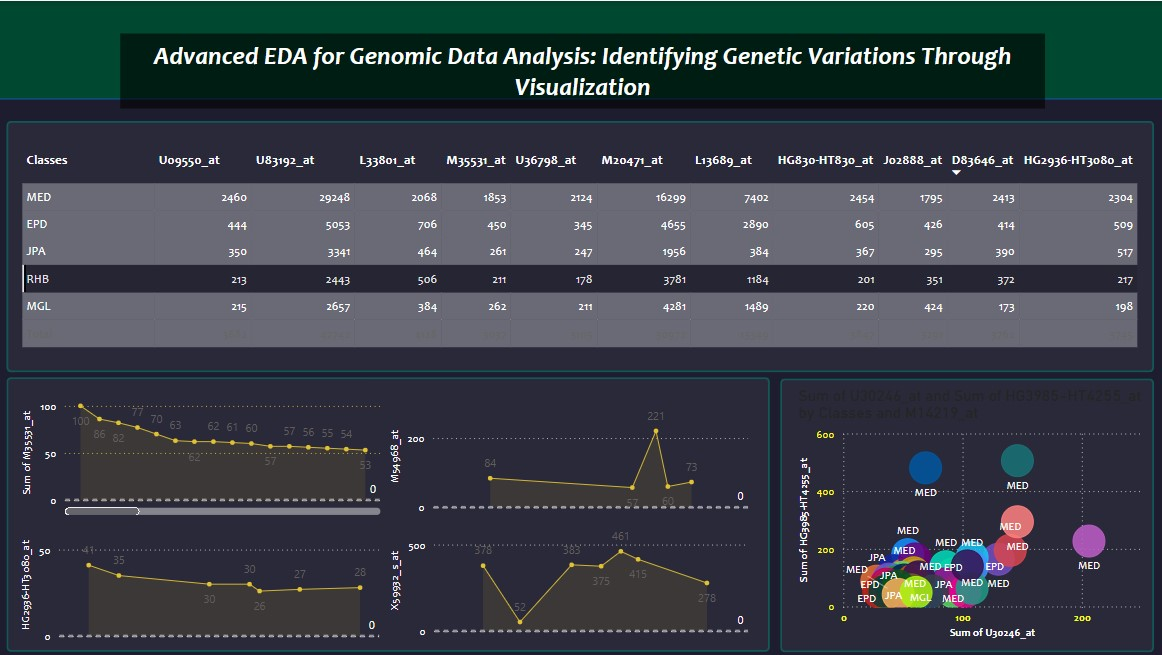

The page's visual inventory and layout, read from the dashboard file:
{"tool":"powerbi","page":{"name":"Page 3","canvas":[1280,720],"ordinal":2},"visuals":[{"type":"shape","box":[0,106.6,1280.3,613.4],"z":0},{"type":"shape","box":[8.6,412.9,838,301.4],"z":1000},{"type":"shape","box":[857.6,414.4,410.3,300.5],"z":2000},{"type":"shape","box":[8.2,131.7,1259.7,275.8],"z":3000},{"type":"actionButton","box":[133.1,35.7,1015.4,82.3],"z":4000},{"type":"scatterChart","fields":{"Category":["pp5i_traintop06.Classes"],"Y":["Sum(pp5i_traintop06.HG3985-HT4255_at)"],"Series":["pp5i_traintop06.M14219_at"],"X":["Sum(pp5i_traintop06.U30246_at)"]},"box":[872.7,422.6,396.6,282.7],"z":5000},{"type":"areaChart","fields":{"Y":["Sum(pp5i_traintop06.M35531_at)"],"Category":["pp5i_traintop06.M14219_at","pp5i_traintop06.HG830-HT830_at"]},"box":[20.6,428.1,403.4,141.3],"z":6000},{"type":"areaChart","fields":{"Y":["Sum(pp5i_traintop02.HG2936-HT3080_at)"],"Category":["pp5i_traintop02.M54968_at"]},"box":[19.2,569.5,403.4,141.3],"z":7000},{"type":"areaChart","fields":{"Y":["Sum(pp5i_traintop02.X59932_s_at)"],"Category":["pp5i_traintop02.M20471_at"]},"box":[424,564,403.4,141.3],"z":8000},{"type":"areaChart","fields":{"Y":["Sum(pp5i_traintop02.M54968_at)"],"Category":["pp5i_traintop02.D13634_at"]},"box":[424,428.1,403.4,141.3],"z":9000},{"type":"tableEx","fields":{"Values":["pp5i_traintop02.Classes","Sum(pp5i_traintop02.U09550_at)","Sum(pp5i_traintop02.U83192_at)","Sum(pp5i_traintop02.L33801_at)","Sum(pp5i_traintop02.M35531_at)","Sum(pp5i_traintop02.U36798_at)","Sum(pp5i_traintop02.M20471_at)","Sum(pp5i_traintop02.L13689_at)","Sum(pp5i_traintop02.HG830-HT830_at)","Sum(pp5i_traintop02.J02888_at)","Sum(pp5i_traintop02.D83646_at)","Sum(pp5i_traintop02.HG2936-HT3080_at)"]},"box":[19.2,153.7,1239.1,249.7],"z":10000}]}

Visuals, with their boxes in screenshot pixels (x1, y1, x2, y2), scaled from the page's 1280x720 canvas onto the 1162x655 screenshot:
shape: box=[0, 97, 1161, 654]
shape: box=[8, 376, 769, 650]
shape: box=[779, 377, 1151, 650]
shape: box=[7, 120, 1151, 371]
actionButton: box=[121, 32, 1043, 107]
scatterChart - pp5i_traintop06.Classes x Sum(pp5i_traintop06.HG3985-HT4255_at): box=[792, 384, 1152, 642]
areaChart - Sum(pp5i_traintop06.M35531_at) x pp5i_traintop06.M14219_at: box=[19, 389, 385, 518]
areaChart - Sum(pp5i_traintop02.HG2936-HT3080_at) x pp5i_traintop02.M54968_at: box=[17, 518, 384, 647]
areaChart - Sum(pp5i_traintop02.X59932_s_at) x pp5i_traintop02.M20471_at: box=[385, 513, 751, 642]
areaChart - Sum(pp5i_traintop02.M54968_at) x pp5i_traintop02.D13634_at: box=[385, 389, 751, 518]
tableEx - pp5i_traintop02.Classes x Sum(pp5i_traintop02.U09550_at): box=[17, 140, 1142, 367]
